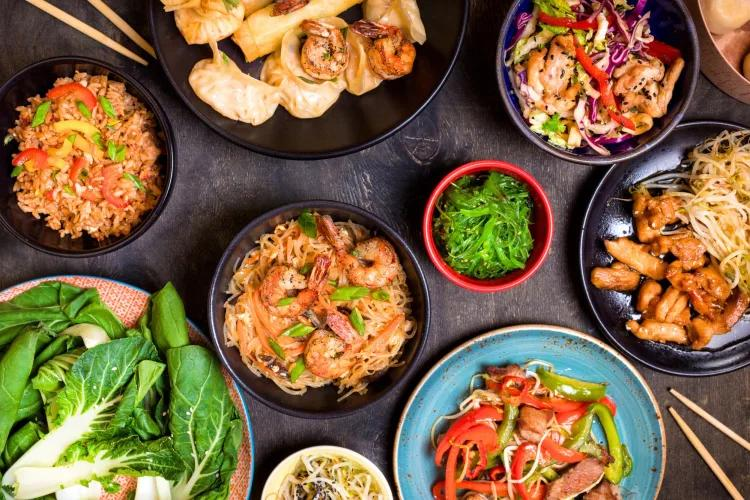Braised Crucian Carp: (149, 0, 448, 159), (394, 324, 661, 497), (205, 203, 420, 416), (578, 125, 750, 373), (0, 56, 174, 256), (494, 1, 692, 166)
